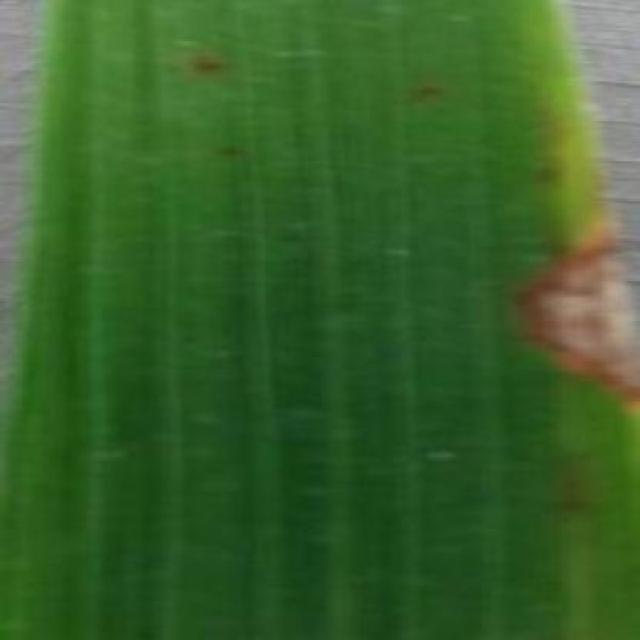Bacterial_Leaf_Blight: (474, 202, 640, 440)
Leaf_Blast: (176, 44, 242, 82)
